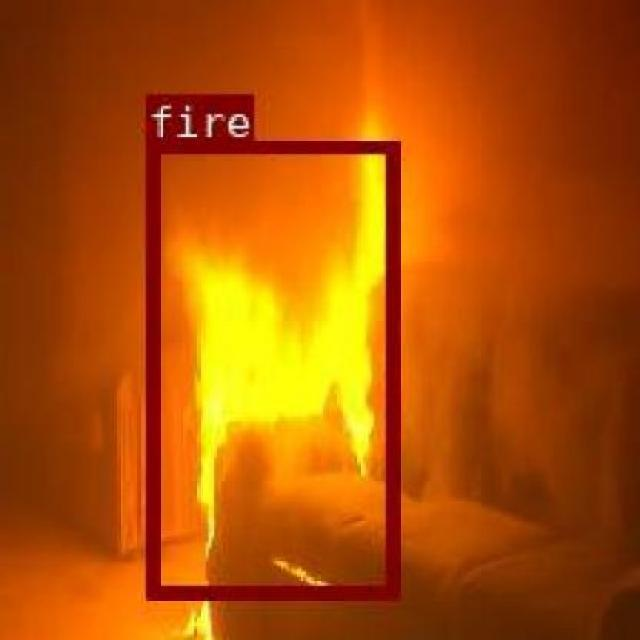Fire: (143, 137, 394, 596)
